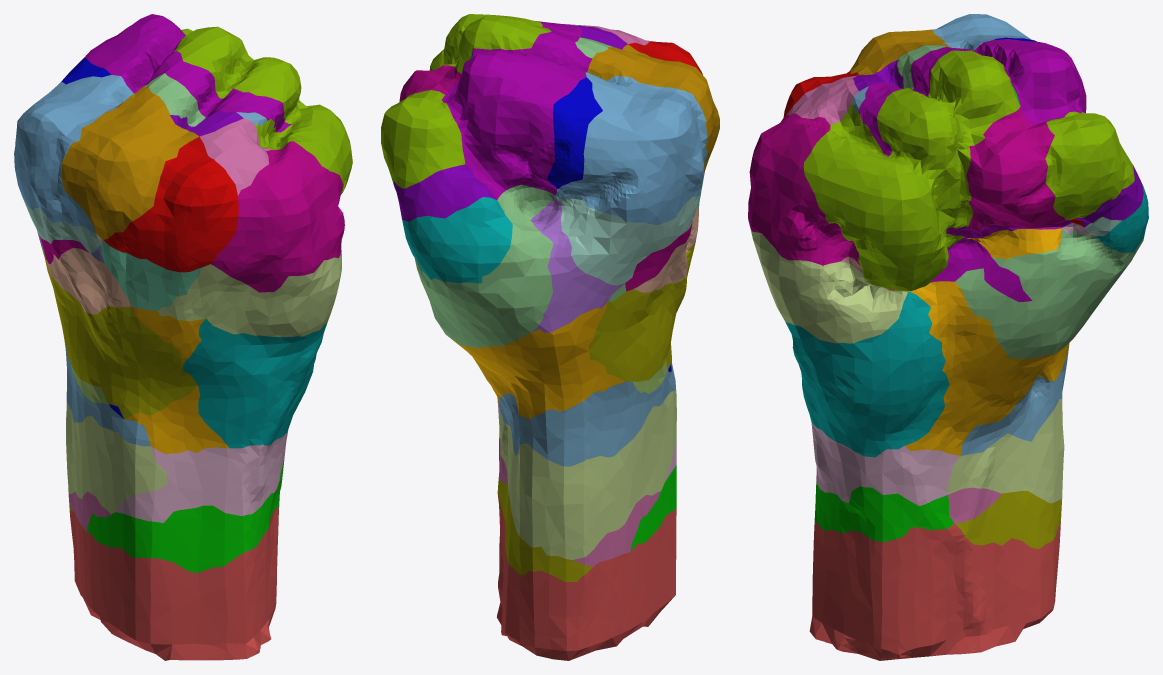
The model's file is fractured_11_45pcs.glb.
3 renders of one model, left to right at view 1: azimuth 30°, elevation 25°; view 2: azimuth 150°, elevation 25°; view 3: azimuth 270°, elevation 25°, orthographic. The views are drawn at different scales.
Visible parts, largest first — view 1: piece_1.obj, piece_22.obj, piece_7.obj, piece_24.obj, piece_5.obj, piece_17.obj, piece_8.obj, piece_3.obj, piece_13.obj, piece_14.obj, piece_16.obj, piece_4.obj (+13 smaller); view 2: piece_3.obj, piece_1.obj, piece_4.obj, piece_2.obj, piece_11.obj, piece_0.obj, piece_10.obj, piece_5.obj, piece_20.obj, piece_12.obj, piece_21.obj, piece_30.obj (+13 smaller); view 3: piece_8.obj, piece_1.obj, piece_7.obj, piece_11.obj, piece_0.obj, piece_22.obj, piece_13.obj, piece_2.obj, piece_9.obj, piece_21.obj, piece_14.obj, piece_4.obj (+14 smaller).
Part boxes in pixels (x1,y1,x2,y2): piece_1.obj: [69, 505, 279, 660]; piece_22.obj: [211, 141, 344, 292]; piece_7.obj: [183, 318, 327, 448]; piece_24.obj: [61, 86, 198, 239]; piece_5.obj: [43, 253, 197, 418]; piece_17.obj: [104, 136, 238, 272]; piece_8.obj: [173, 26, 352, 194]; piece_3.obj: [14, 75, 133, 233]; piece_13.obj: [158, 250, 341, 337]; piece_14.obj: [115, 429, 288, 522]; piece_16.obj: [87, 460, 284, 573]; piece_4.obj: [66, 401, 167, 514]; piece_3.obj: [555, 72, 707, 224]; piece_1.obj: [496, 492, 676, 660]; piece_4.obj: [499, 387, 676, 559]; piece_2.obj: [442, 48, 586, 199]; piece_11.obj: [414, 184, 554, 348]; piece_0.obj: [449, 302, 672, 418]; piece_10.obj: [498, 365, 675, 466]; piece_5.obj: [588, 242, 695, 381]; piece_20.obj: [402, 197, 512, 283]; piece_12.obj: [555, 195, 699, 285]; piece_21.obj: [381, 90, 465, 188]; piece_30.obj: [531, 196, 624, 332]; piece_8.obj: [803, 50, 1020, 291]; piece_1.obj: [809, 520, 1060, 660]; piece_7.obj: [784, 292, 949, 457]; piece_11.obj: [955, 228, 1143, 358]; piece_0.obj: [905, 281, 1075, 455]; piece_22.obj: [748, 113, 860, 265]; piece_13.obj: [750, 227, 907, 343]; piece_2.obj: [930, 39, 1086, 301]; piece_9.obj: [966, 106, 1069, 230]; piece_21.obj: [1045, 111, 1134, 219]; piece_14.obj: [811, 422, 960, 505]; piece_4.obj: [947, 399, 1064, 503].
Bounding box in the file's own units: 0.5279 × 1 × 0.6085.
